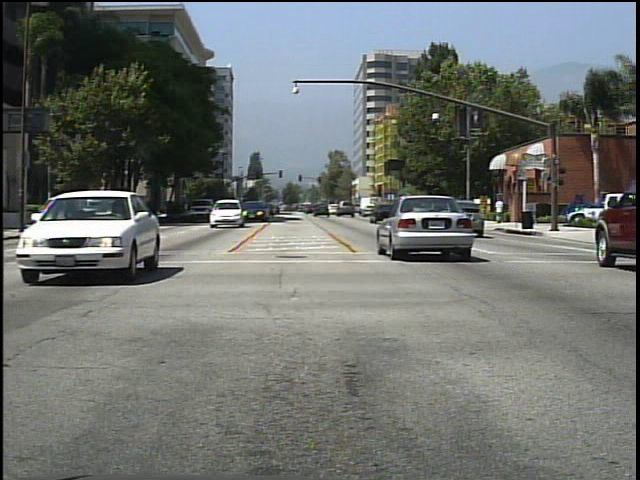person: (450, 193, 468, 229), (493, 195, 507, 224)
